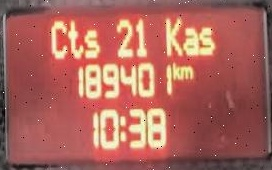0: (99, 106, 119, 148), (136, 60, 154, 97)
1: (135, 17, 146, 55), (90, 110, 99, 148), (76, 64, 84, 98), (164, 63, 171, 95)
2: (115, 17, 134, 56)
3: (127, 106, 146, 148)
4: (119, 62, 137, 97)
8: (146, 105, 166, 148), (83, 61, 101, 98)
9: (101, 61, 118, 98)
X: (164, 16, 183, 57), (49, 18, 67, 58), (68, 18, 84, 59), (198, 25, 215, 55), (183, 26, 198, 57), (84, 29, 100, 58), (119, 114, 127, 143), (179, 64, 192, 80), (172, 61, 180, 79)
